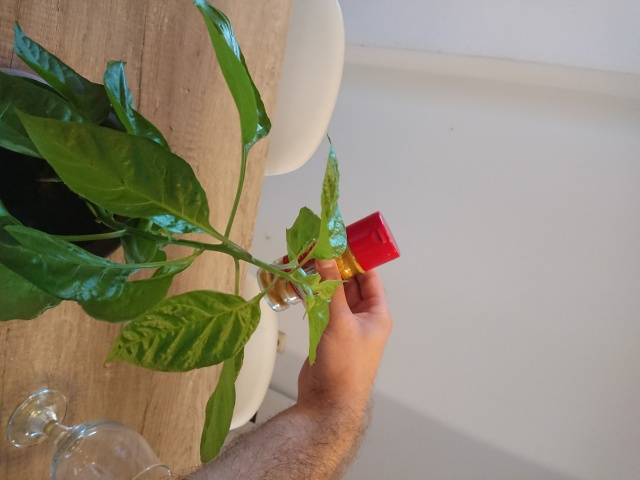Kotanyi Curry Spices Mix 70g: (255, 208, 403, 314)
